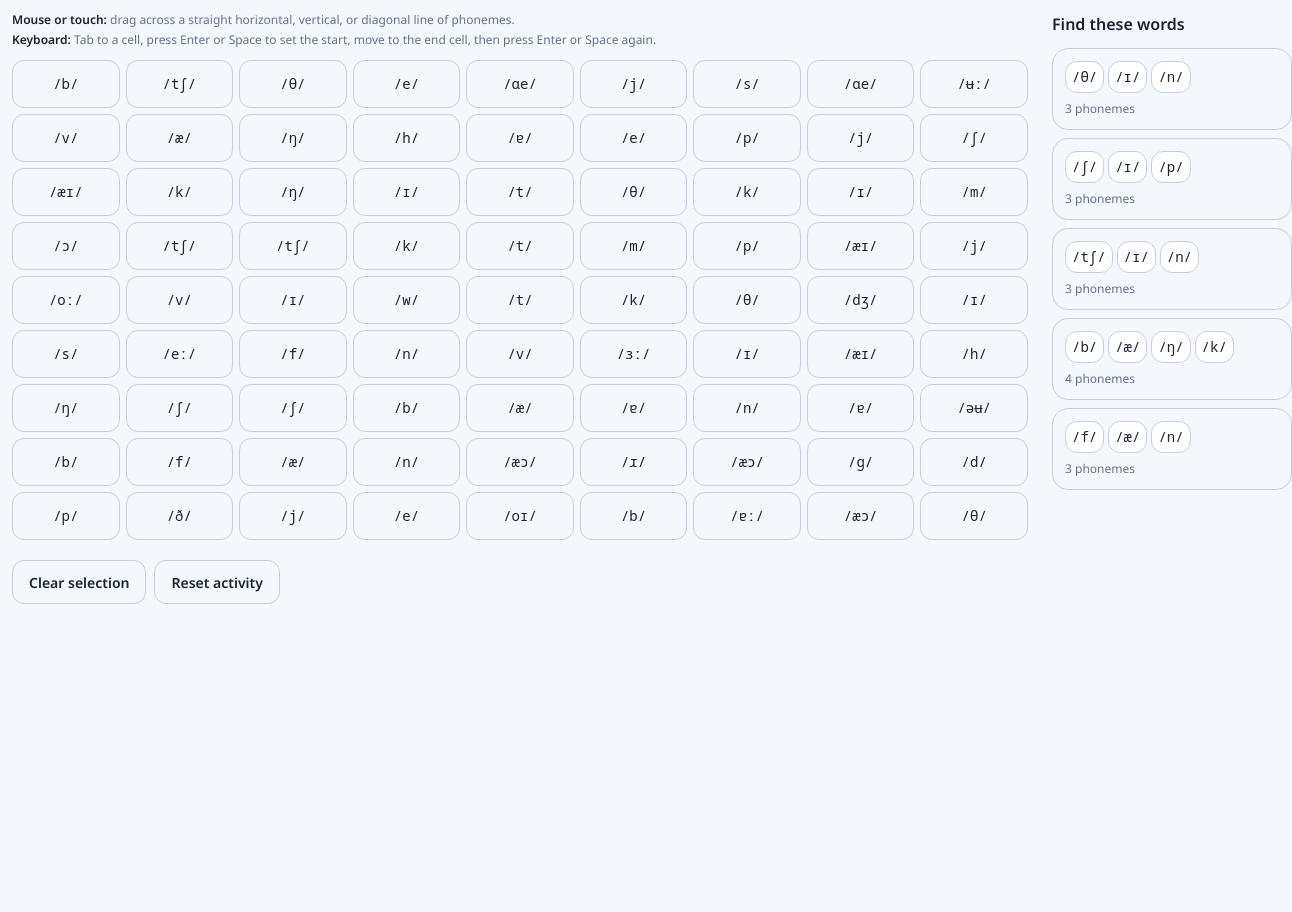
Test: WordSearchGame › finds a word from a straight sequence and can reset
The width and height of the screenshot is (1292, 912).
Press the mouse on the 1st button "/b/" at (66, 84), box [12, 60, 120, 108]
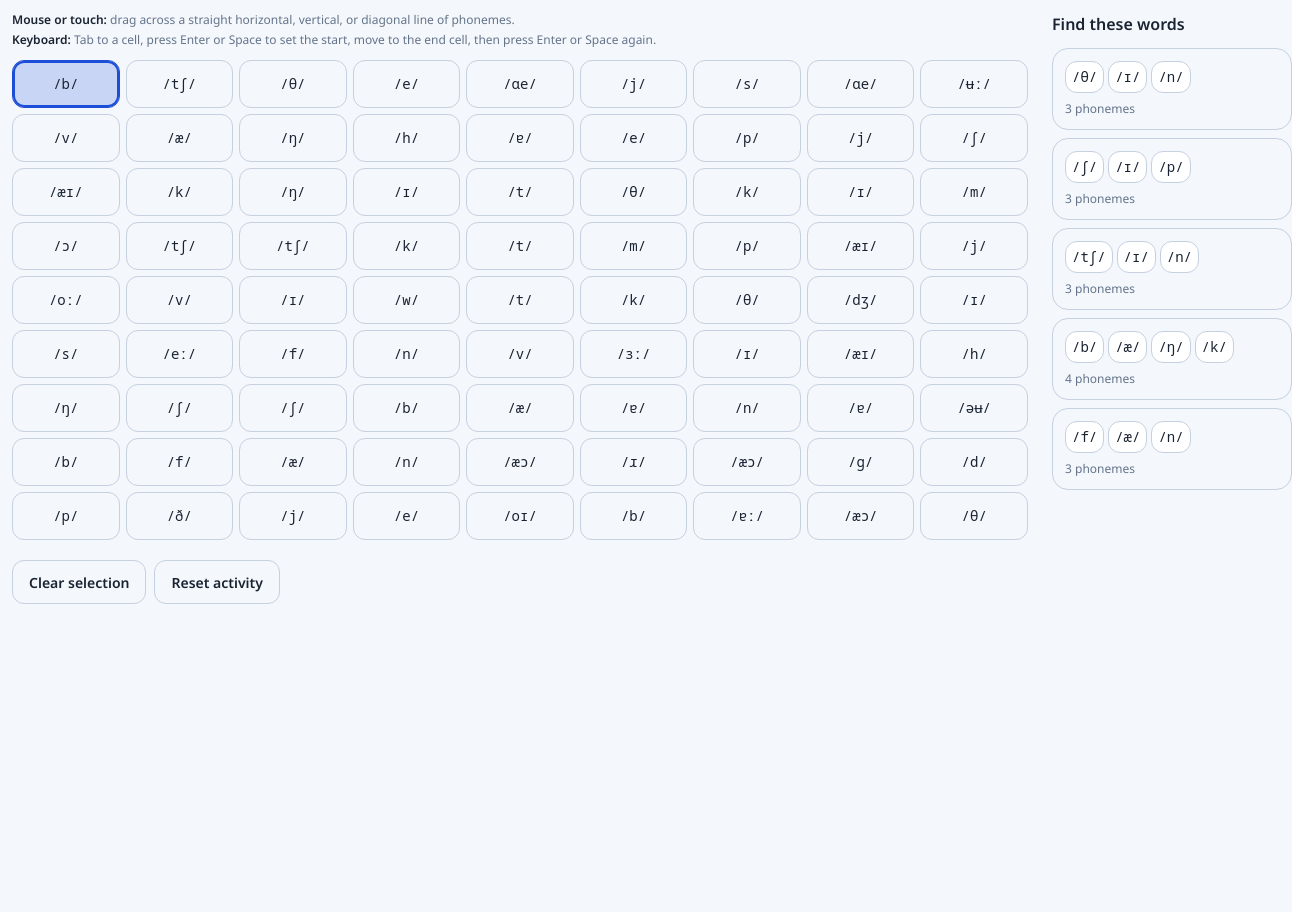
Hover over the 1st button "/æ/" at (179, 138), box [126, 114, 233, 162]
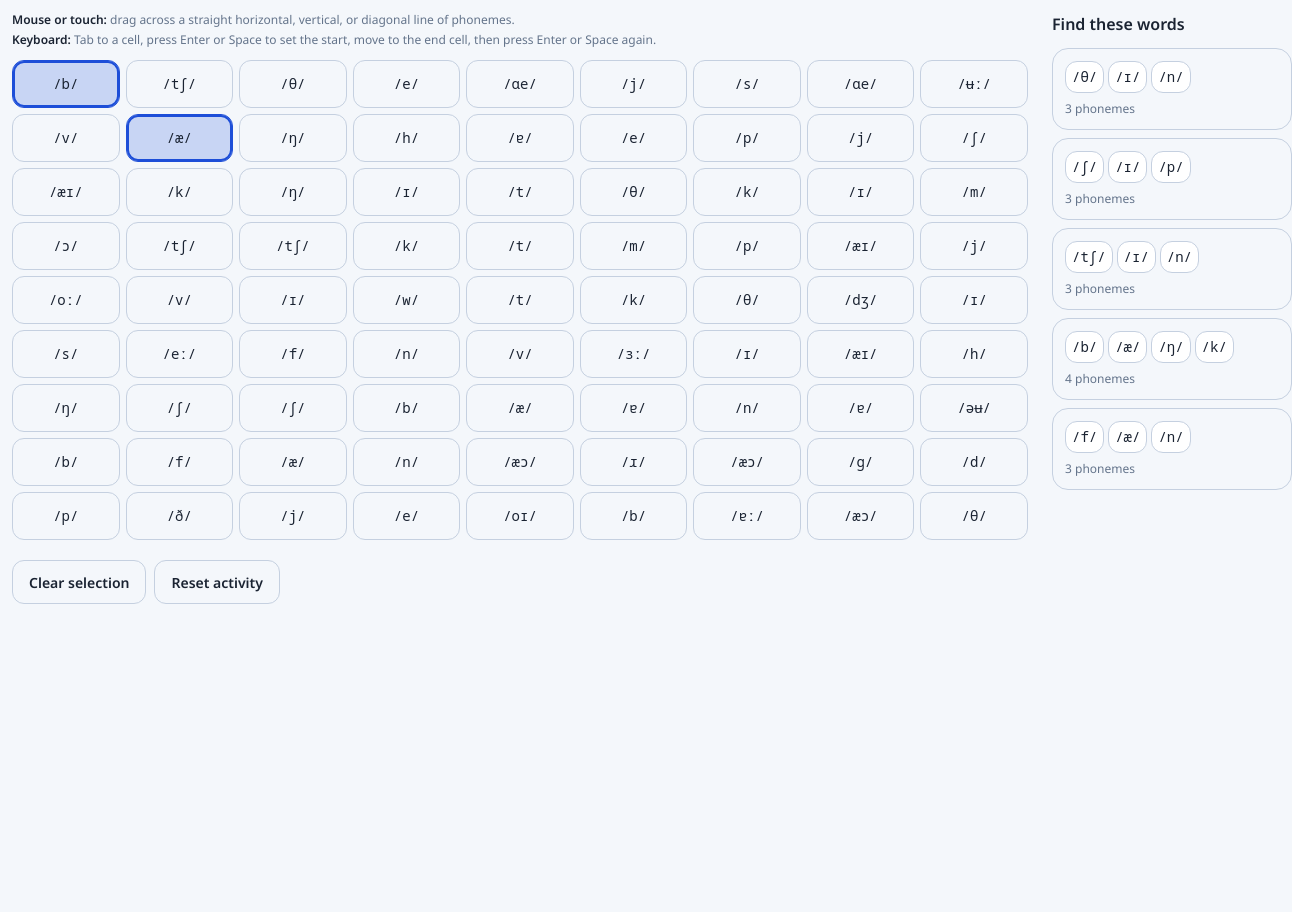
Hover over the 2nd button "/ŋ/" at (293, 192), box [239, 168, 347, 216]
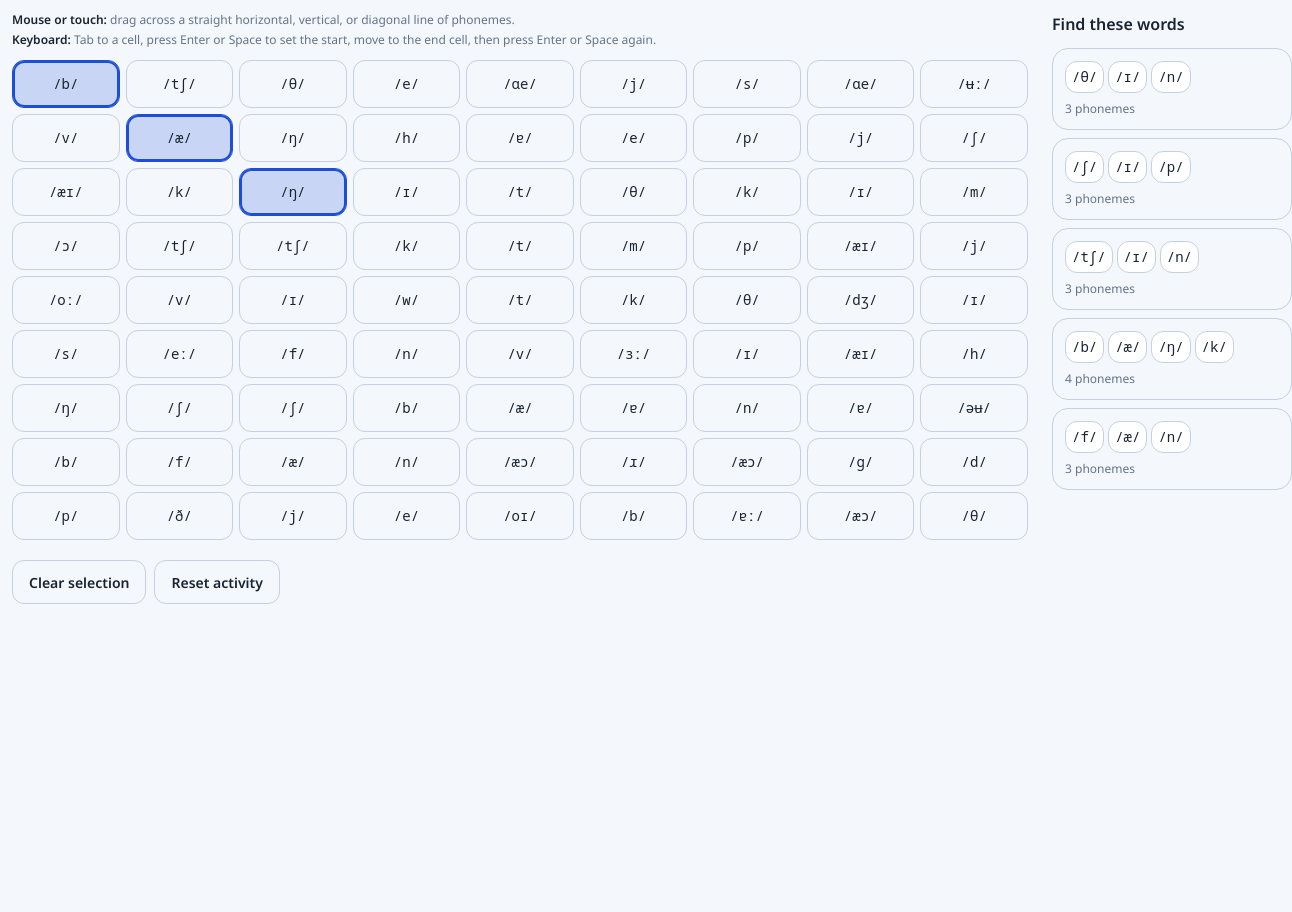
Hover over the 3rd button "/k/" at (406, 246), box [353, 222, 460, 270]
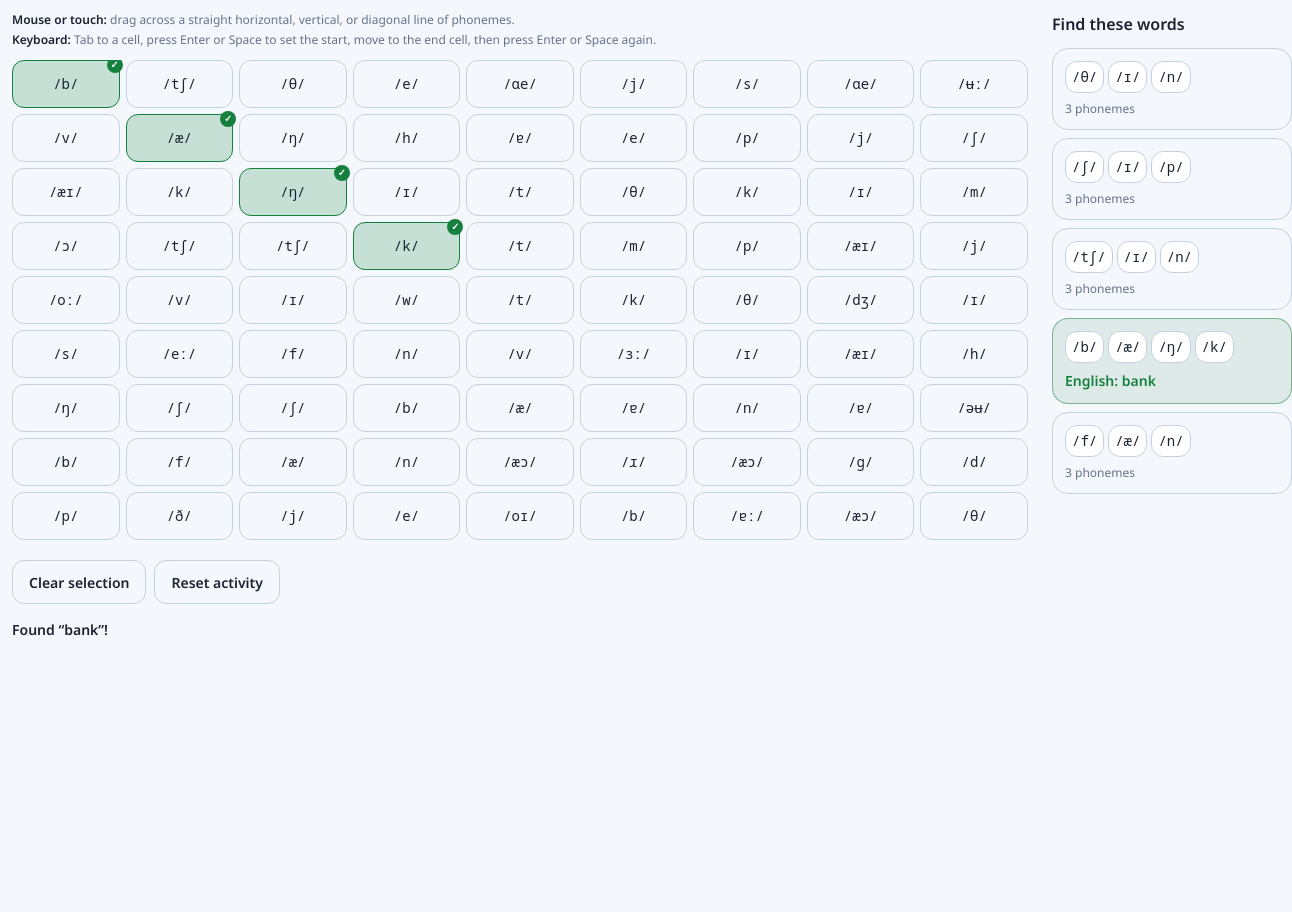
expect the message shows "bank": met, box [12, 620, 108, 639]
Click the button "Reset activity" at (217, 582), box [154, 560, 280, 604]
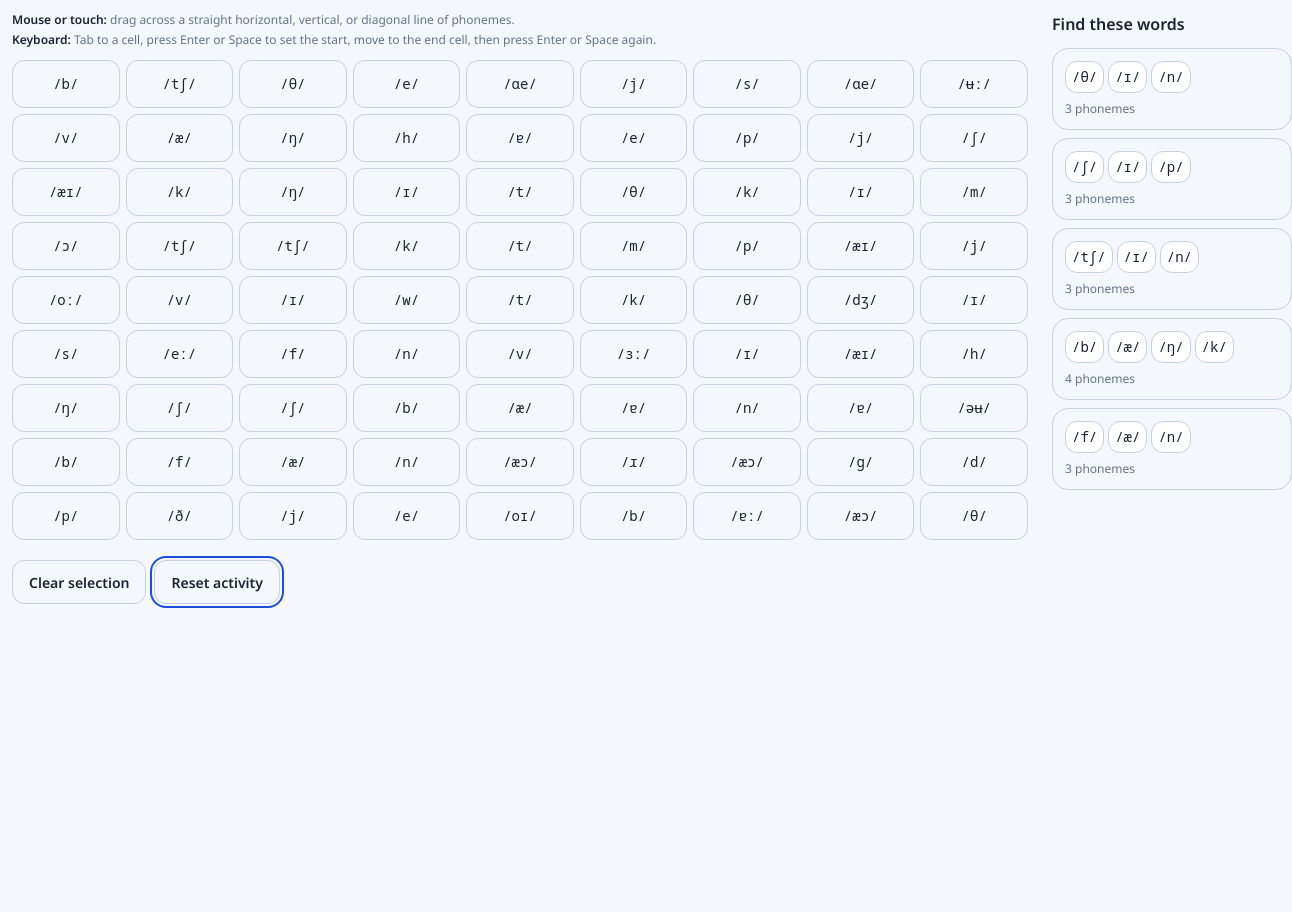
expect the message is empty: met, box [12, 620, 1291, 644]
expect the text "English:" is gone: met
